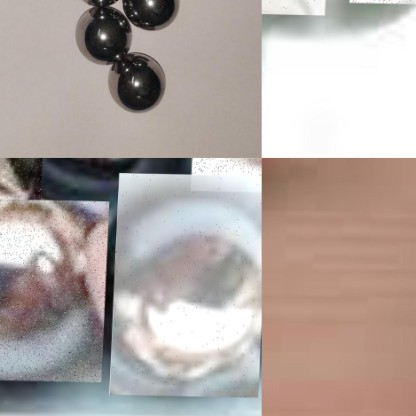ironball: (112, 171, 261, 396), (0, 197, 110, 381), (104, 48, 168, 112), (71, 6, 133, 65), (121, 0, 182, 31)
